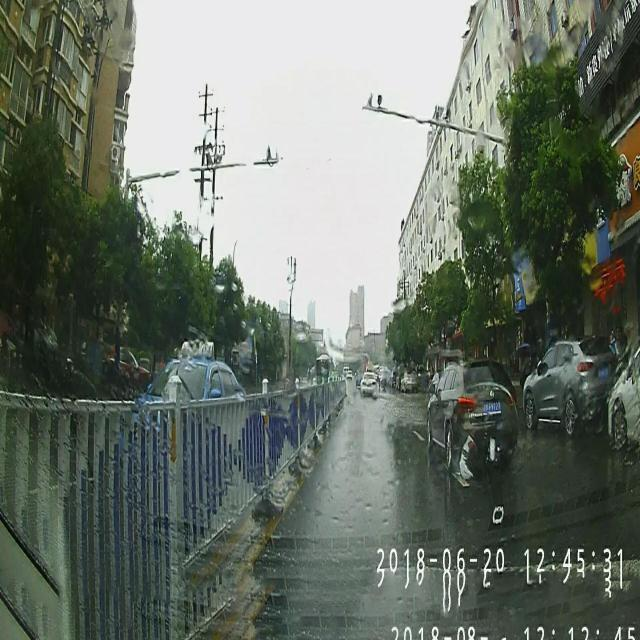car: (120, 342, 247, 464), (425, 358, 520, 470), (522, 335, 618, 434), (601, 342, 640, 449), (361, 372, 376, 396)
